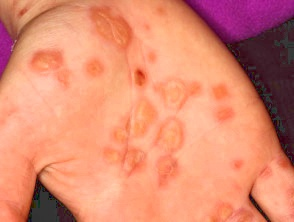SJS-TEN: (95, 48, 249, 203), (27, 32, 116, 104), (76, 0, 139, 51), (210, 198, 258, 221)
